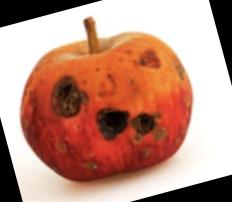Banana: (24, 31, 192, 180)
